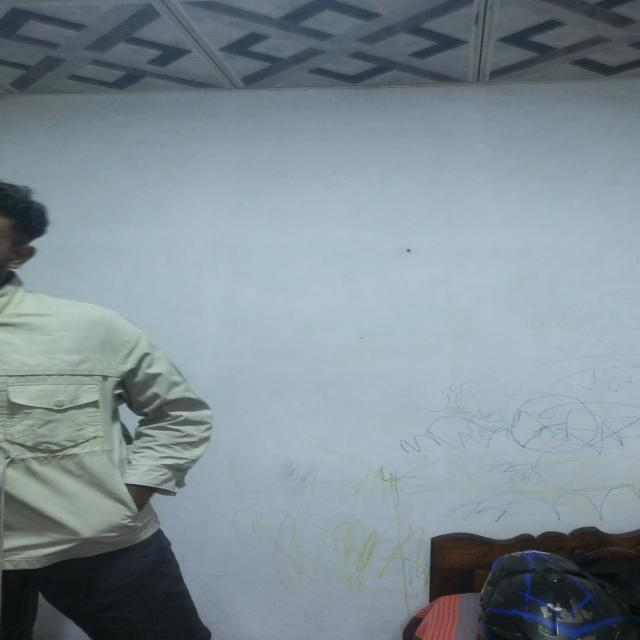Jacket_Wearer: (0, 278, 228, 559)
Person: (0, 182, 234, 630)
